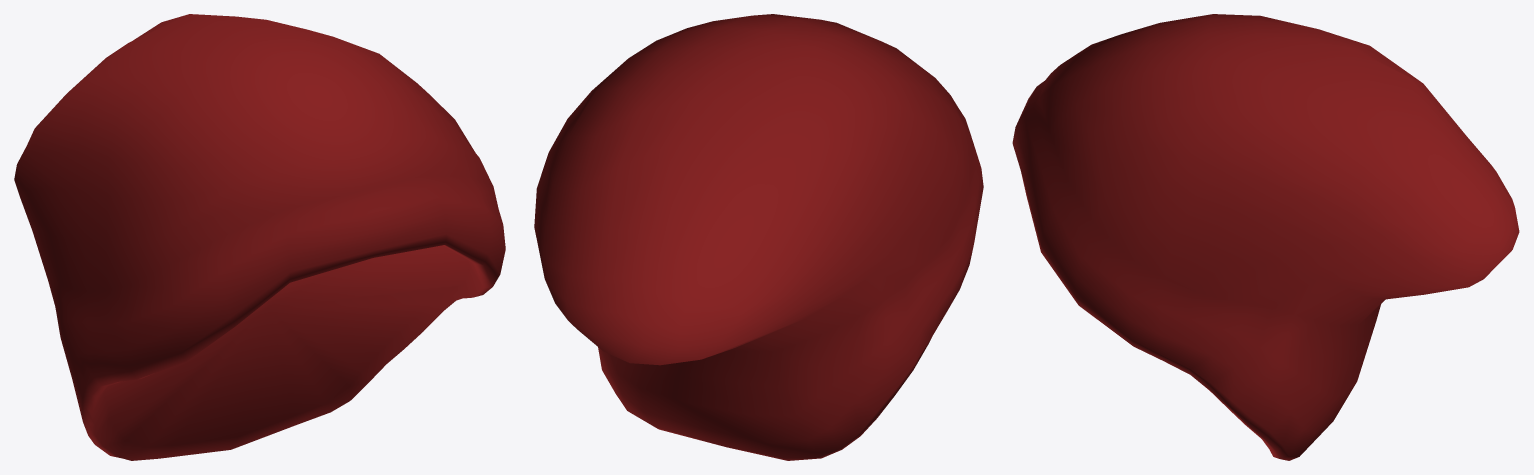
File: Beanie_Low.fbx
3 renders of one model, left to right at view 1: azimuth 30°, elevation 25°; view 2: azimuth 150°, elevation 25°; view 3: azimuth 270°, elevation 25°, orthographic. The views are drawn at different scales.
Visible parts, largest first — view 1: polySurface24; view 2: polySurface24; view 3: polySurface24.
Part boxes in pixels (left/top/right/bottom): polySurface24: left=14, top=14, right=505, bottom=460; polySurface24: left=534, top=14, right=983, bottom=460; polySurface24: left=1012, top=14, right=1519, bottom=460.
Bounding box in the file's own units: 2.07 × 2.18 × 2.56.
